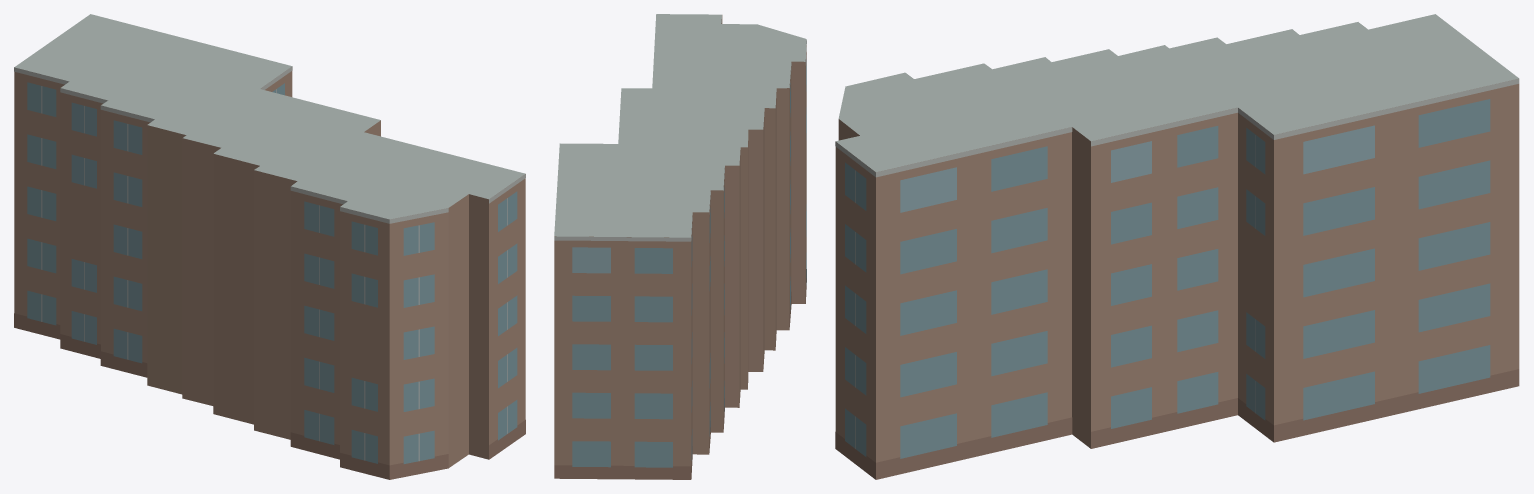
The model's file is survey-upis-33004743.glb.
The picture shows the model from 3 angles, left to right: view 1: azimuth 30°, elevation 25°; view 2: azimuth 150°, elevation 25°; view 3: azimuth 270°, elevation 25°; orthographic projection. The views are drawn at different scales.
Parts seen in each view (by area): view 1: survey-upis-33004743.tmp; view 2: survey-upis-33004743.tmp; view 3: survey-upis-33004743.tmp.
Boxes of the visible parts, x1,y1,x2,y2 form: survey-upis-33004743.tmp: (14, 14, 525, 479); survey-upis-33004743.tmp: (554, 14, 806, 479); survey-upis-33004743.tmp: (835, 14, 1519, 479).
Bounding box in the file's own units: 16.13 × 14.6 × 29.43.
